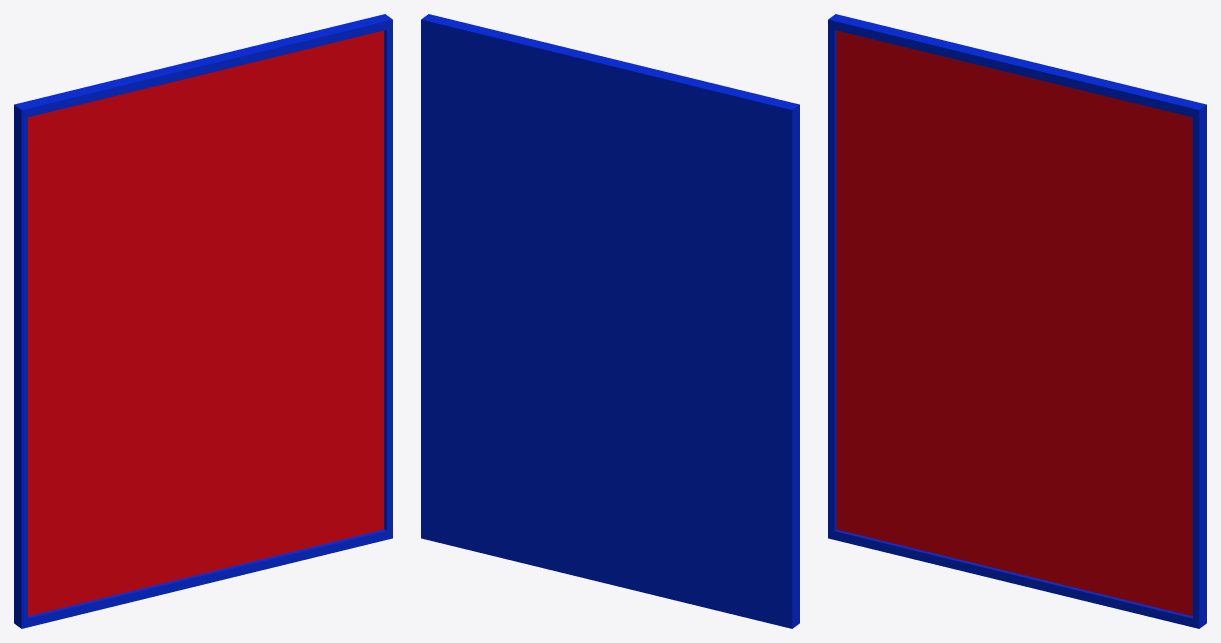
File: Espejo_Baño.fbx
3 renders of one model, left to right at view 1: azimuth 30°, elevation 25°; view 2: azimuth 150°, elevation 25°; view 3: azimuth 330°, elevation 25°, orthographic.
Visible parts, largest first — view 1: Cube; view 2: Cube; view 3: Cube.
Boxes of the visible parts, left/top/right/bottom form: Cube: left=14, top=14, right=392, bottom=628; Cube: left=421, top=14, right=799, bottom=628; Cube: left=828, top=14, right=1206, bottom=628.
Bounding box in the file's own units: 87.95 × 117 × 3.11.
